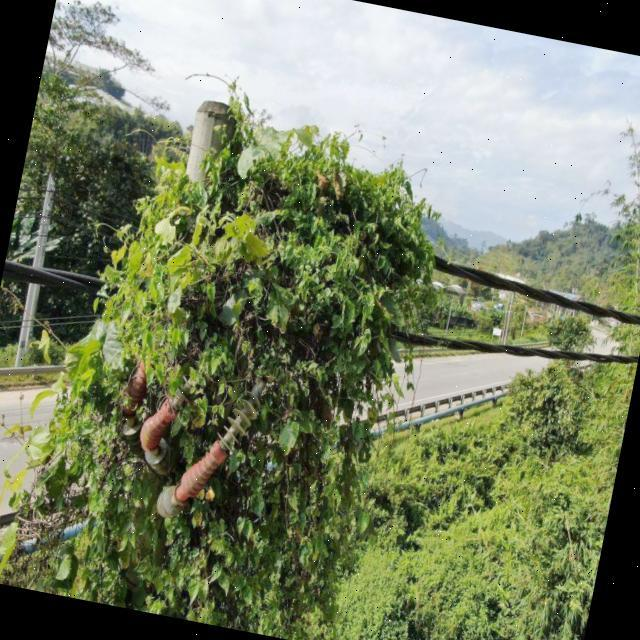critical vegetation: (0, 79, 458, 640)
